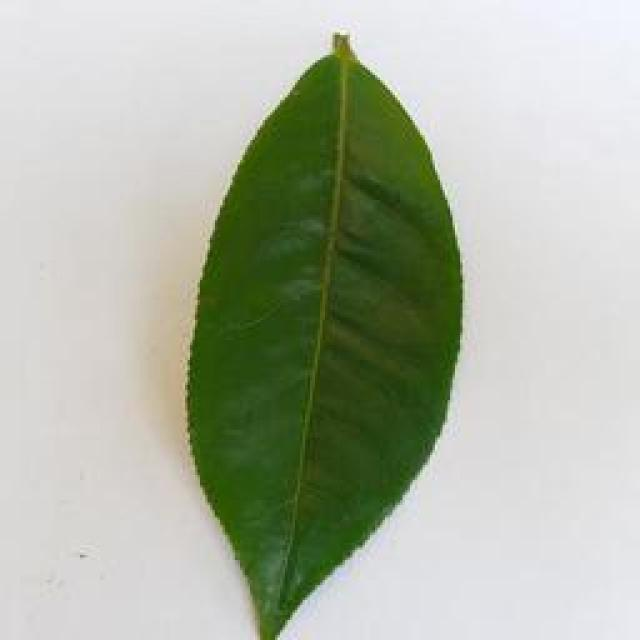Healthy: (187, 27, 465, 638)
